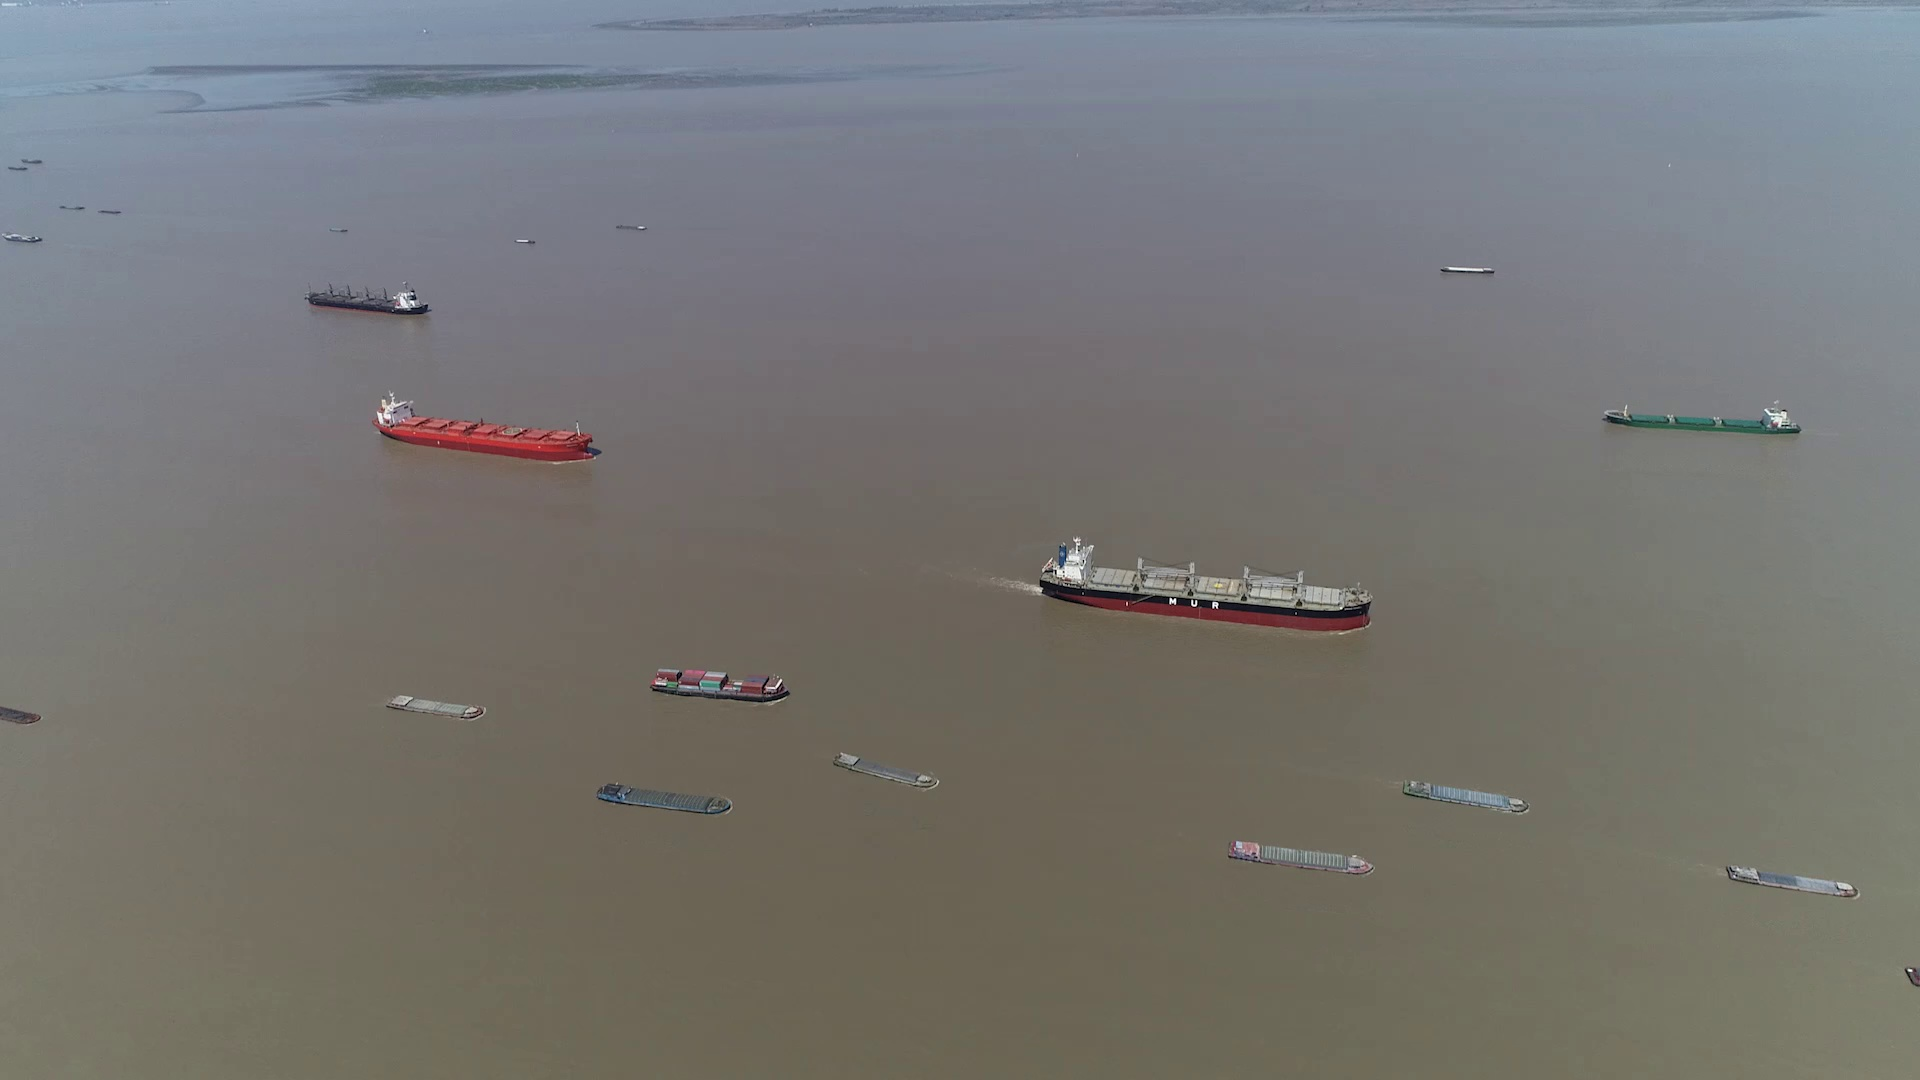ship: (1039, 539, 1371, 632), (375, 392, 592, 460), (1604, 404, 1801, 433), (1229, 839, 1374, 876), (651, 667, 790, 702), (306, 281, 433, 316), (596, 783, 731, 816), (1403, 778, 1528, 812), (1724, 865, 1858, 897), (833, 752, 939, 789), (386, 694, 487, 719), (3, 700, 40, 731), (1443, 266, 1494, 276), (4, 229, 44, 241), (514, 237, 533, 244)
